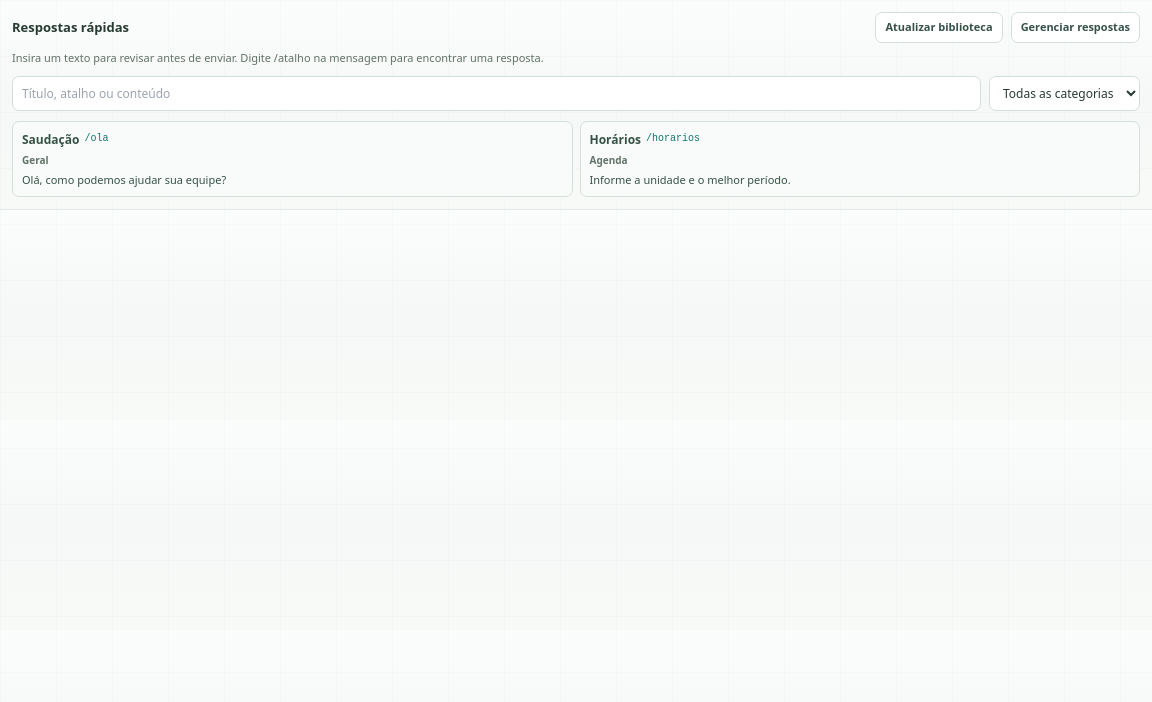
Test: QuickReplyLibrary › preserva a edição em conflito e só carrega a versão da equipe por ação explícita
Expected: the button with aria-label "Inserir resposta Saudação" is shown, [12, 121, 572, 197]
Click the button "Gerenciar respostas": (1075, 27) [1011, 12, 1140, 42]
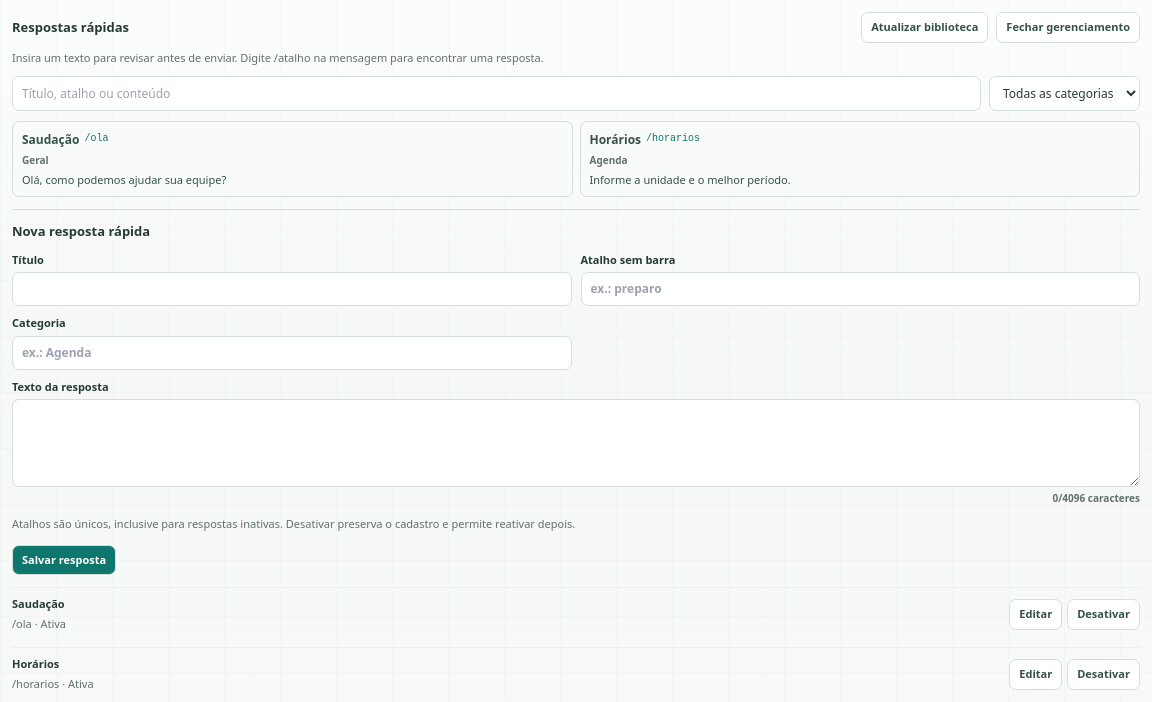
Click the button with aria-label "Editar resposta Saudação": (1036, 614) [1009, 599, 1062, 630]
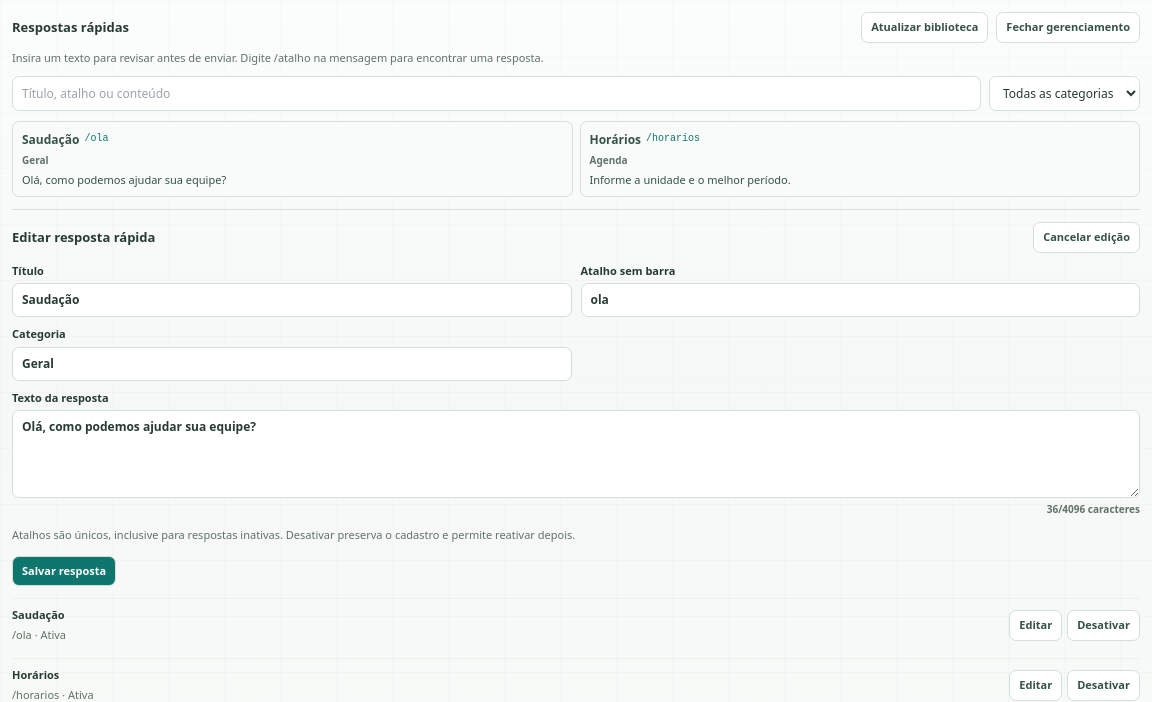
Replace the text in the text box labelled "Texto da resposta 36/4096 caracteres" with "Minha edição local": (576, 454) [12, 410, 1140, 498]
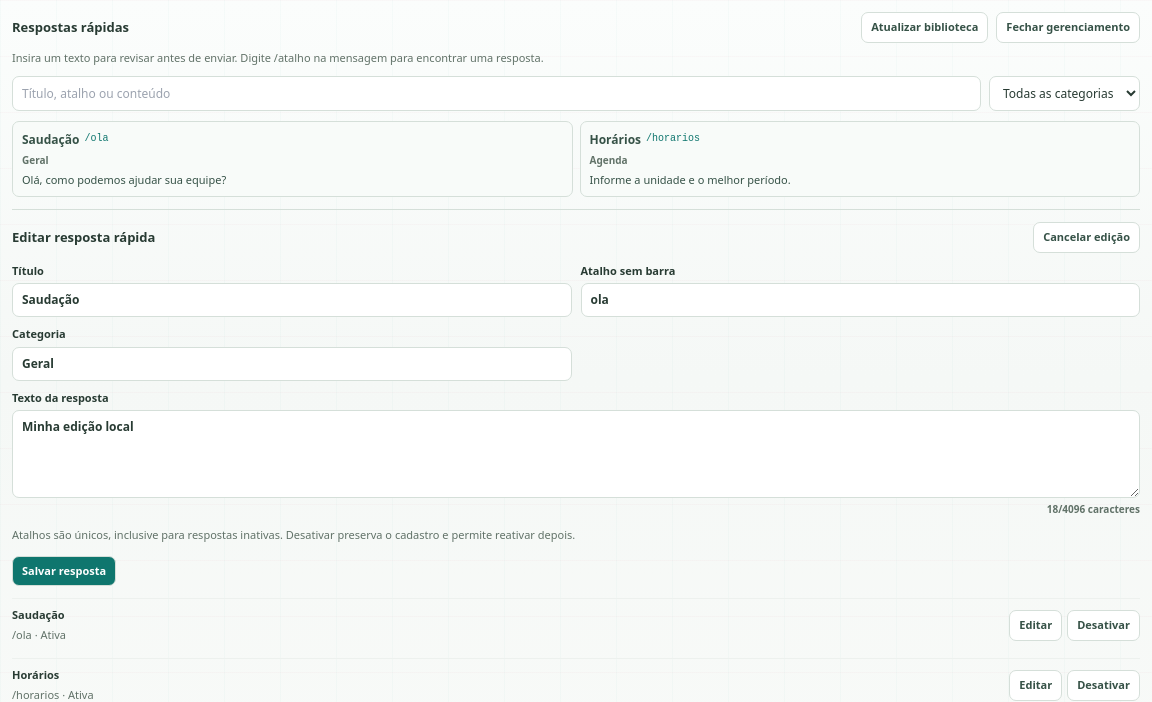
Click the button "Salvar resposta": (64, 571) [12, 556, 116, 586]
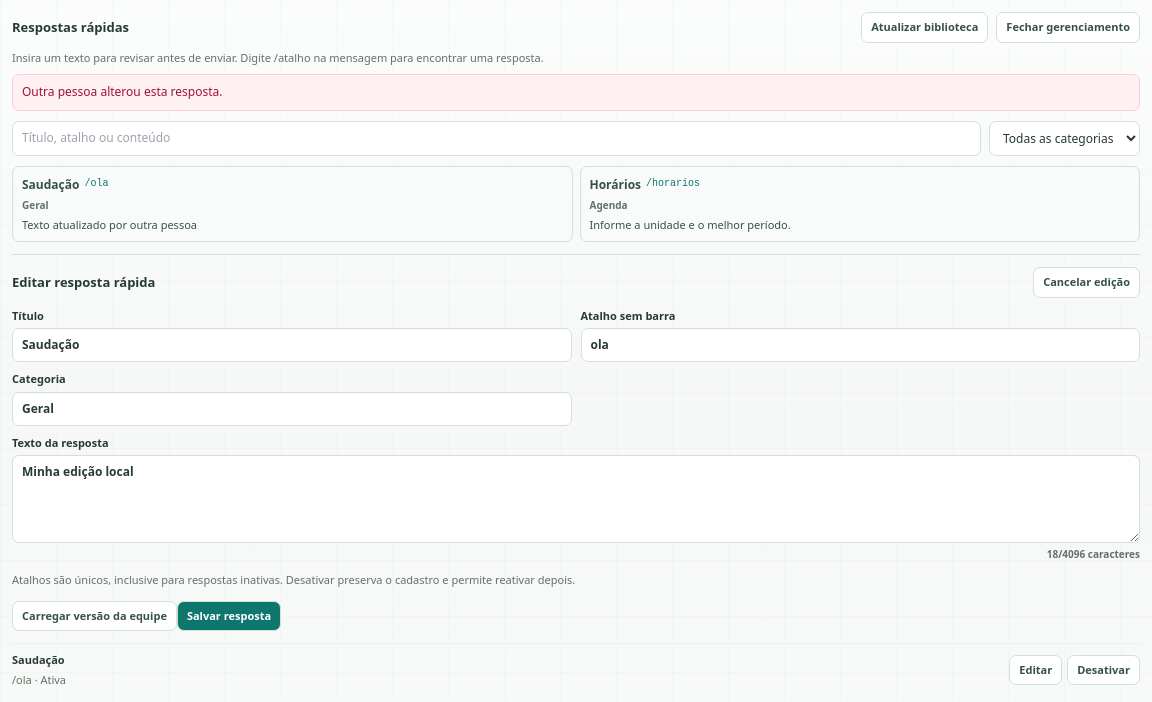
Result: the message reads "Outra pessoa alterou esta resposta." at [22, 83, 222, 100]
Click the button "Carregar versão da equipe": (94, 616) [12, 601, 177, 631]
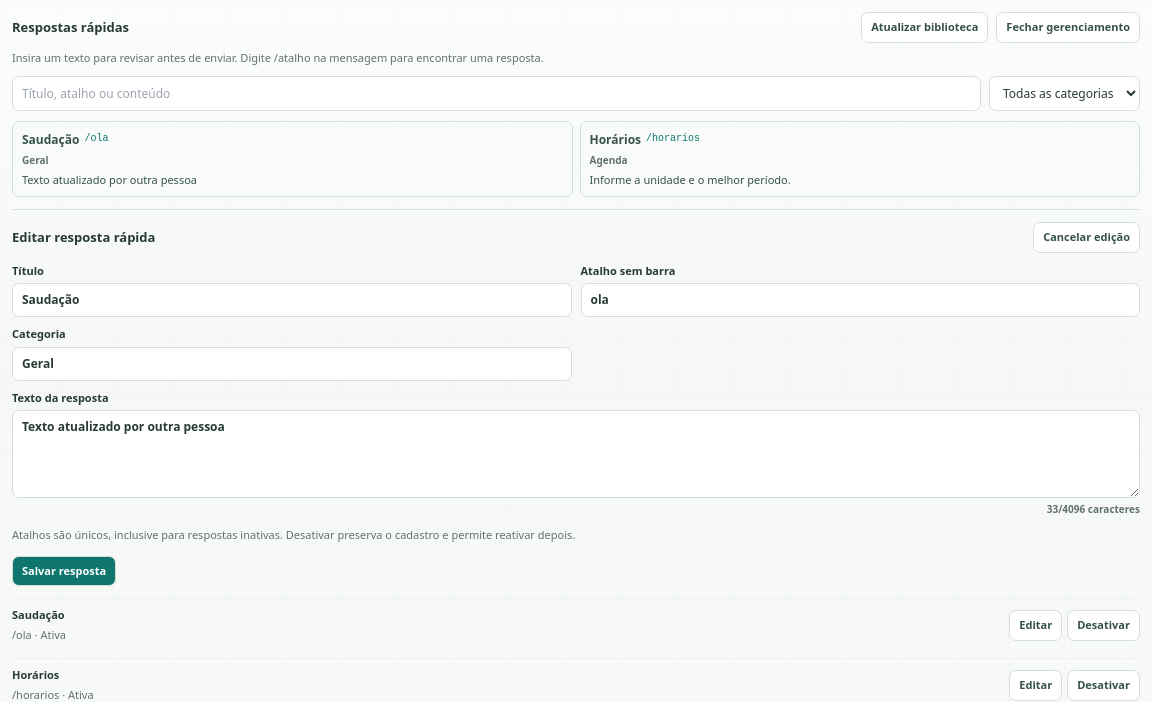
Result: the text box labelled "Texto da resposta 33/4096 caracteres" holds "Texto atualizado por outra pessoa" at [12, 410, 1140, 498]
Click the button "Salvar resposta": (64, 571) [12, 556, 116, 586]
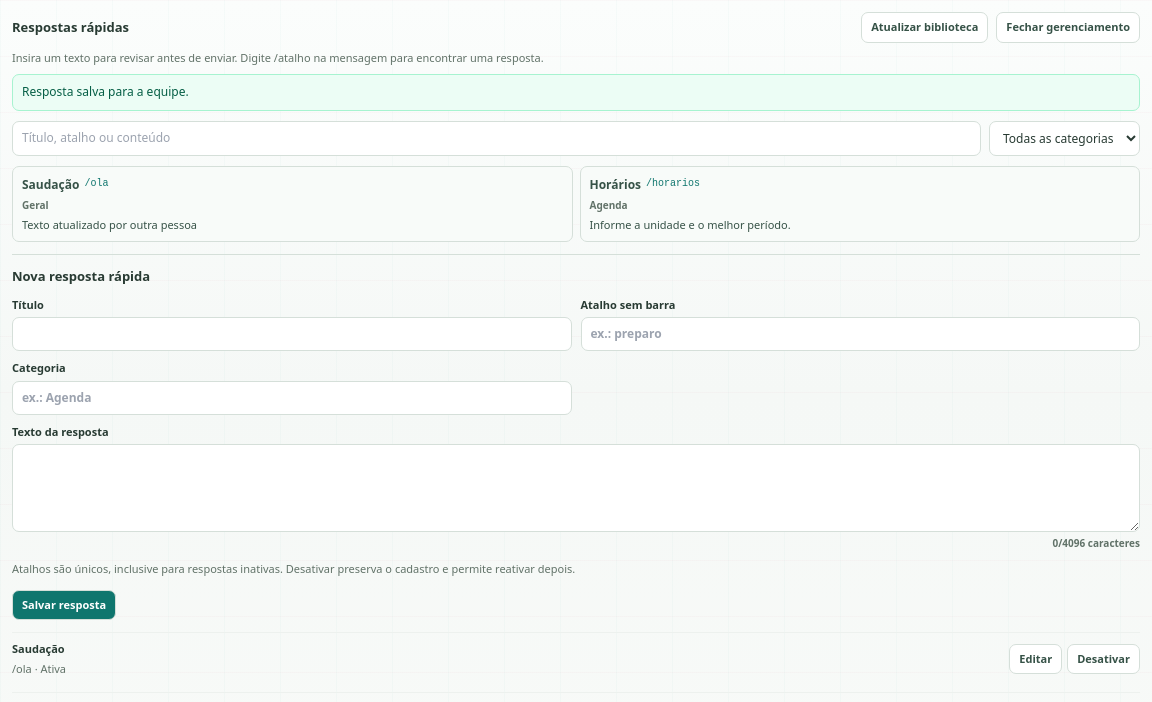
Result: the text "Resposta salva para a equipe." is shown at [12, 74, 1140, 111]
